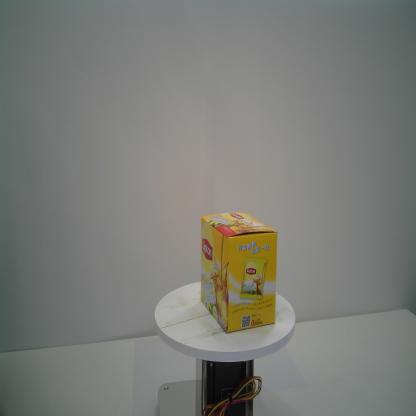Instant Drink: (201, 210, 279, 334)
